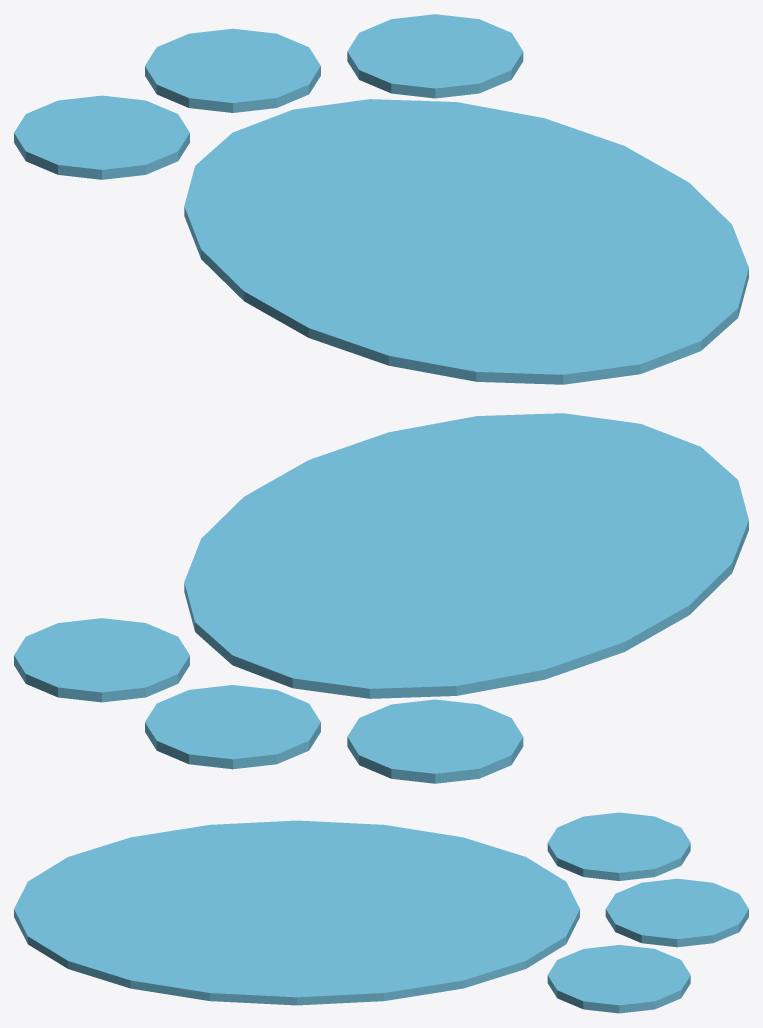
The model's file is footprint.glb.
3 renders of one model, top to bottom at view 1: azimuth 30°, elevation 25°; view 2: azimuth 150°, elevation 25°; view 3: azimuth 270°, elevation 25°, orthographic. The views are drawn at different scales.
Parts seen in each view (by area): view 1: Riesen_Fussspur, Riesen_Fussspur_Toe_2, Riesen_Fussspur_Toe_0, Riesen_Fussspur_Toe_1; view 2: Riesen_Fussspur, Riesen_Fussspur_Toe_0, Riesen_Fussspur_Toe_1, Riesen_Fussspur_Toe_2; view 3: Riesen_Fussspur, Riesen_Fussspur_Toe_1, Riesen_Fussspur_Toe_0, Riesen_Fussspur_Toe_2.
Part boxes in pixels (x1=…): Riesen_Fussspur: x1=184, y1=99, x2=748, y2=384; Riesen_Fussspur_Toe_2: x1=347, y1=14, x2=523, y2=98; Riesen_Fussspur_Toe_0: x1=14, y1=95, x2=189, y2=179; Riesen_Fussspur_Toe_1: x1=145, y1=28, x2=320, y2=112; Riesen_Fussspur: x1=184, y1=413, x2=748, y2=698; Riesen_Fussspur_Toe_0: x1=347, y1=699, x2=523, y2=783; Riesen_Fussspur_Toe_1: x1=145, y1=685, x2=320, y2=769; Riesen_Fussspur_Toe_2: x1=14, y1=618, x2=189, y2=702; Riesen_Fussspur: x1=14, y1=820, x2=579, y2=1005; Riesen_Fussspur_Toe_1: x1=605, y1=878, x2=748, y2=947; Riesen_Fussspur_Toe_0: x1=547, y1=812, x2=690, y2=880; Riesen_Fussspur_Toe_2: x1=547, y1=945, x2=690, y2=1013.
Size of the model in its own units: 1.02 by 0.02 by 1.64.
